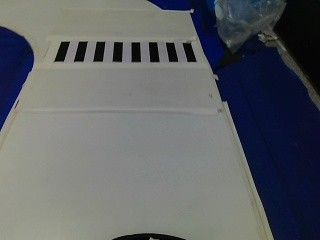crosswalk: (51, 36, 200, 67)
